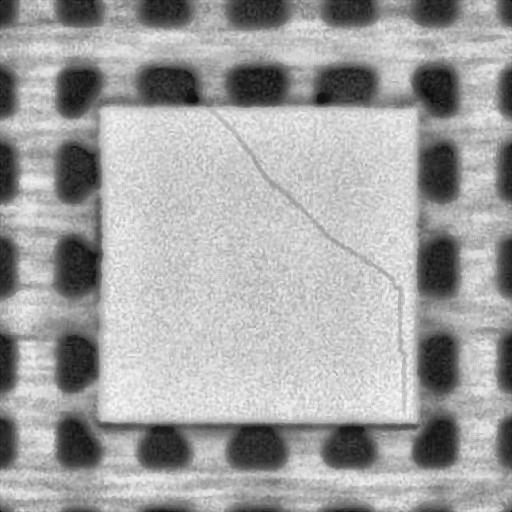DIE_CRACK: (207, 108, 404, 412)
